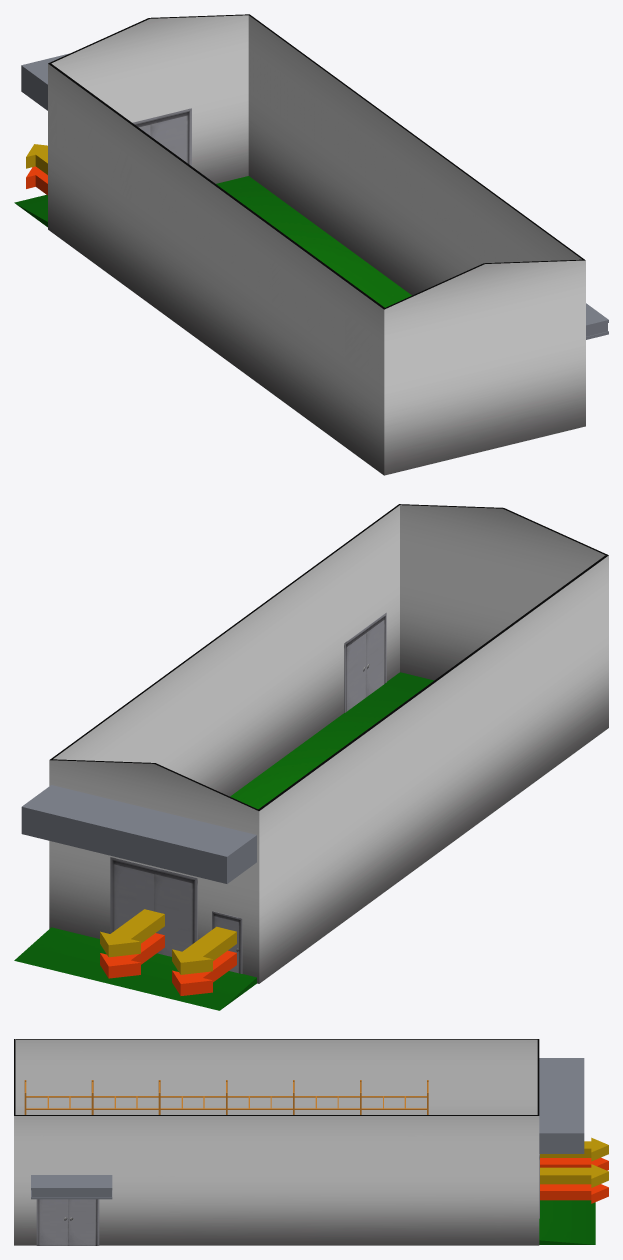
File: soubrain_T1-14-1F.glb
3 renders of one model, top to bottom at view 1: azimuth 30°, elevation 25°; view 2: azimuth 150°, elevation 25°; view 3: azimuth 270°, elevation 25°, orthographic. The views are drawn at different scales.
Visible parts, largest first — view 1: Box002, Line031, T1-14-1F; view 2: Box002, Line031, T1-14-1F, arrow_Y_2_T1-14-1F, arrow_Y_1_T1-14-1F, arrow_R_1_T1-14-1F, arrow_R_2_T1-14-1F; view 3: Box002, T1-14-1F, Line031, arrow_Y_2_T1-14-1F, arrow_R_2_T1-14-1F, arrow_R_1_T1-14-1F, arrow_Y_1_T1-14-1F.
Boxes of the visible parts, x1,y1,x2,y2 form: Box002: (21, 14, 608, 475); Line031: (14, 176, 411, 307); T1-14-1F: (132, 108, 191, 166); Box002: (21, 504, 608, 983); Line031: (14, 672, 433, 1010); T1-14-1F: (110, 612, 386, 973); arrow_Y_2_T1-14-1F: (100, 909, 164, 957); arrow_Y_1_T1-14-1F: (172, 926, 236, 974); arrow_R_1_T1-14-1F: (172, 950, 236, 995); arrow_R_2_T1-14-1F: (100, 933, 164, 978); Box002: (14, 1039, 584, 1245); T1-14-1F: (24, 1080, 539, 1245); Line031: (539, 1200, 595, 1244); arrow_Y_2_T1-14-1F: (540, 1164, 608, 1187); arrow_R_2_T1-14-1F: (540, 1184, 608, 1203); arrow_R_1_T1-14-1F: (540, 1157, 608, 1170); arrow_Y_1_T1-14-1F: (540, 1137, 608, 1161).
Size of the model in its own units: 8.47 by 6.42 by 23.69.
9 materials, 6 textured.
